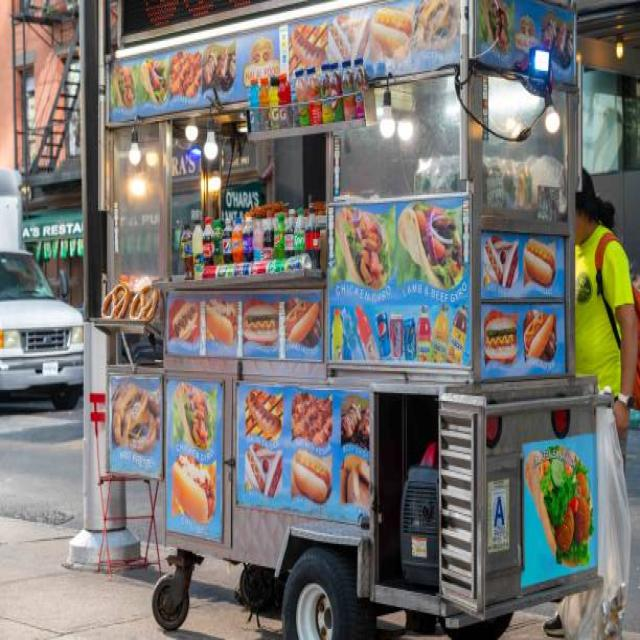Emperan: (93, 0, 608, 640)
